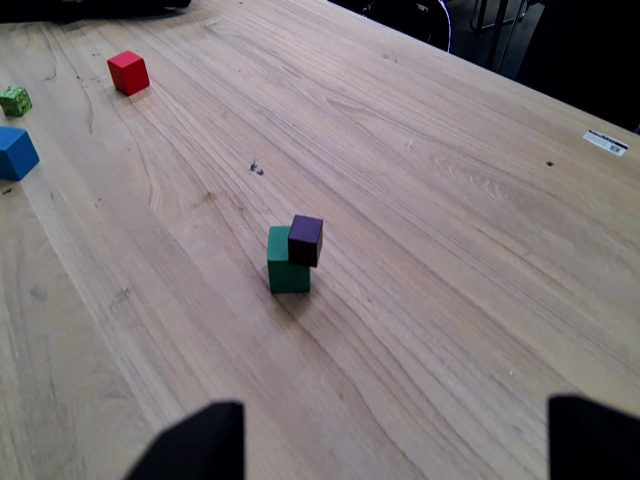brick: (286, 211, 325, 268)
